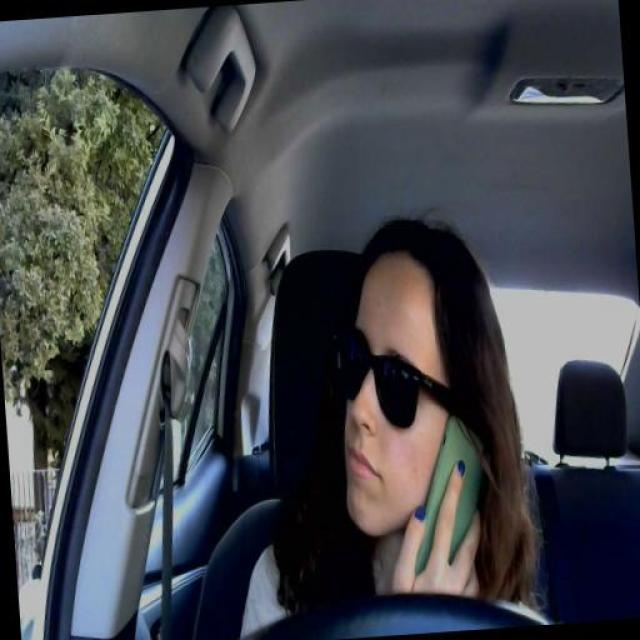phone: (412, 414, 492, 578)
